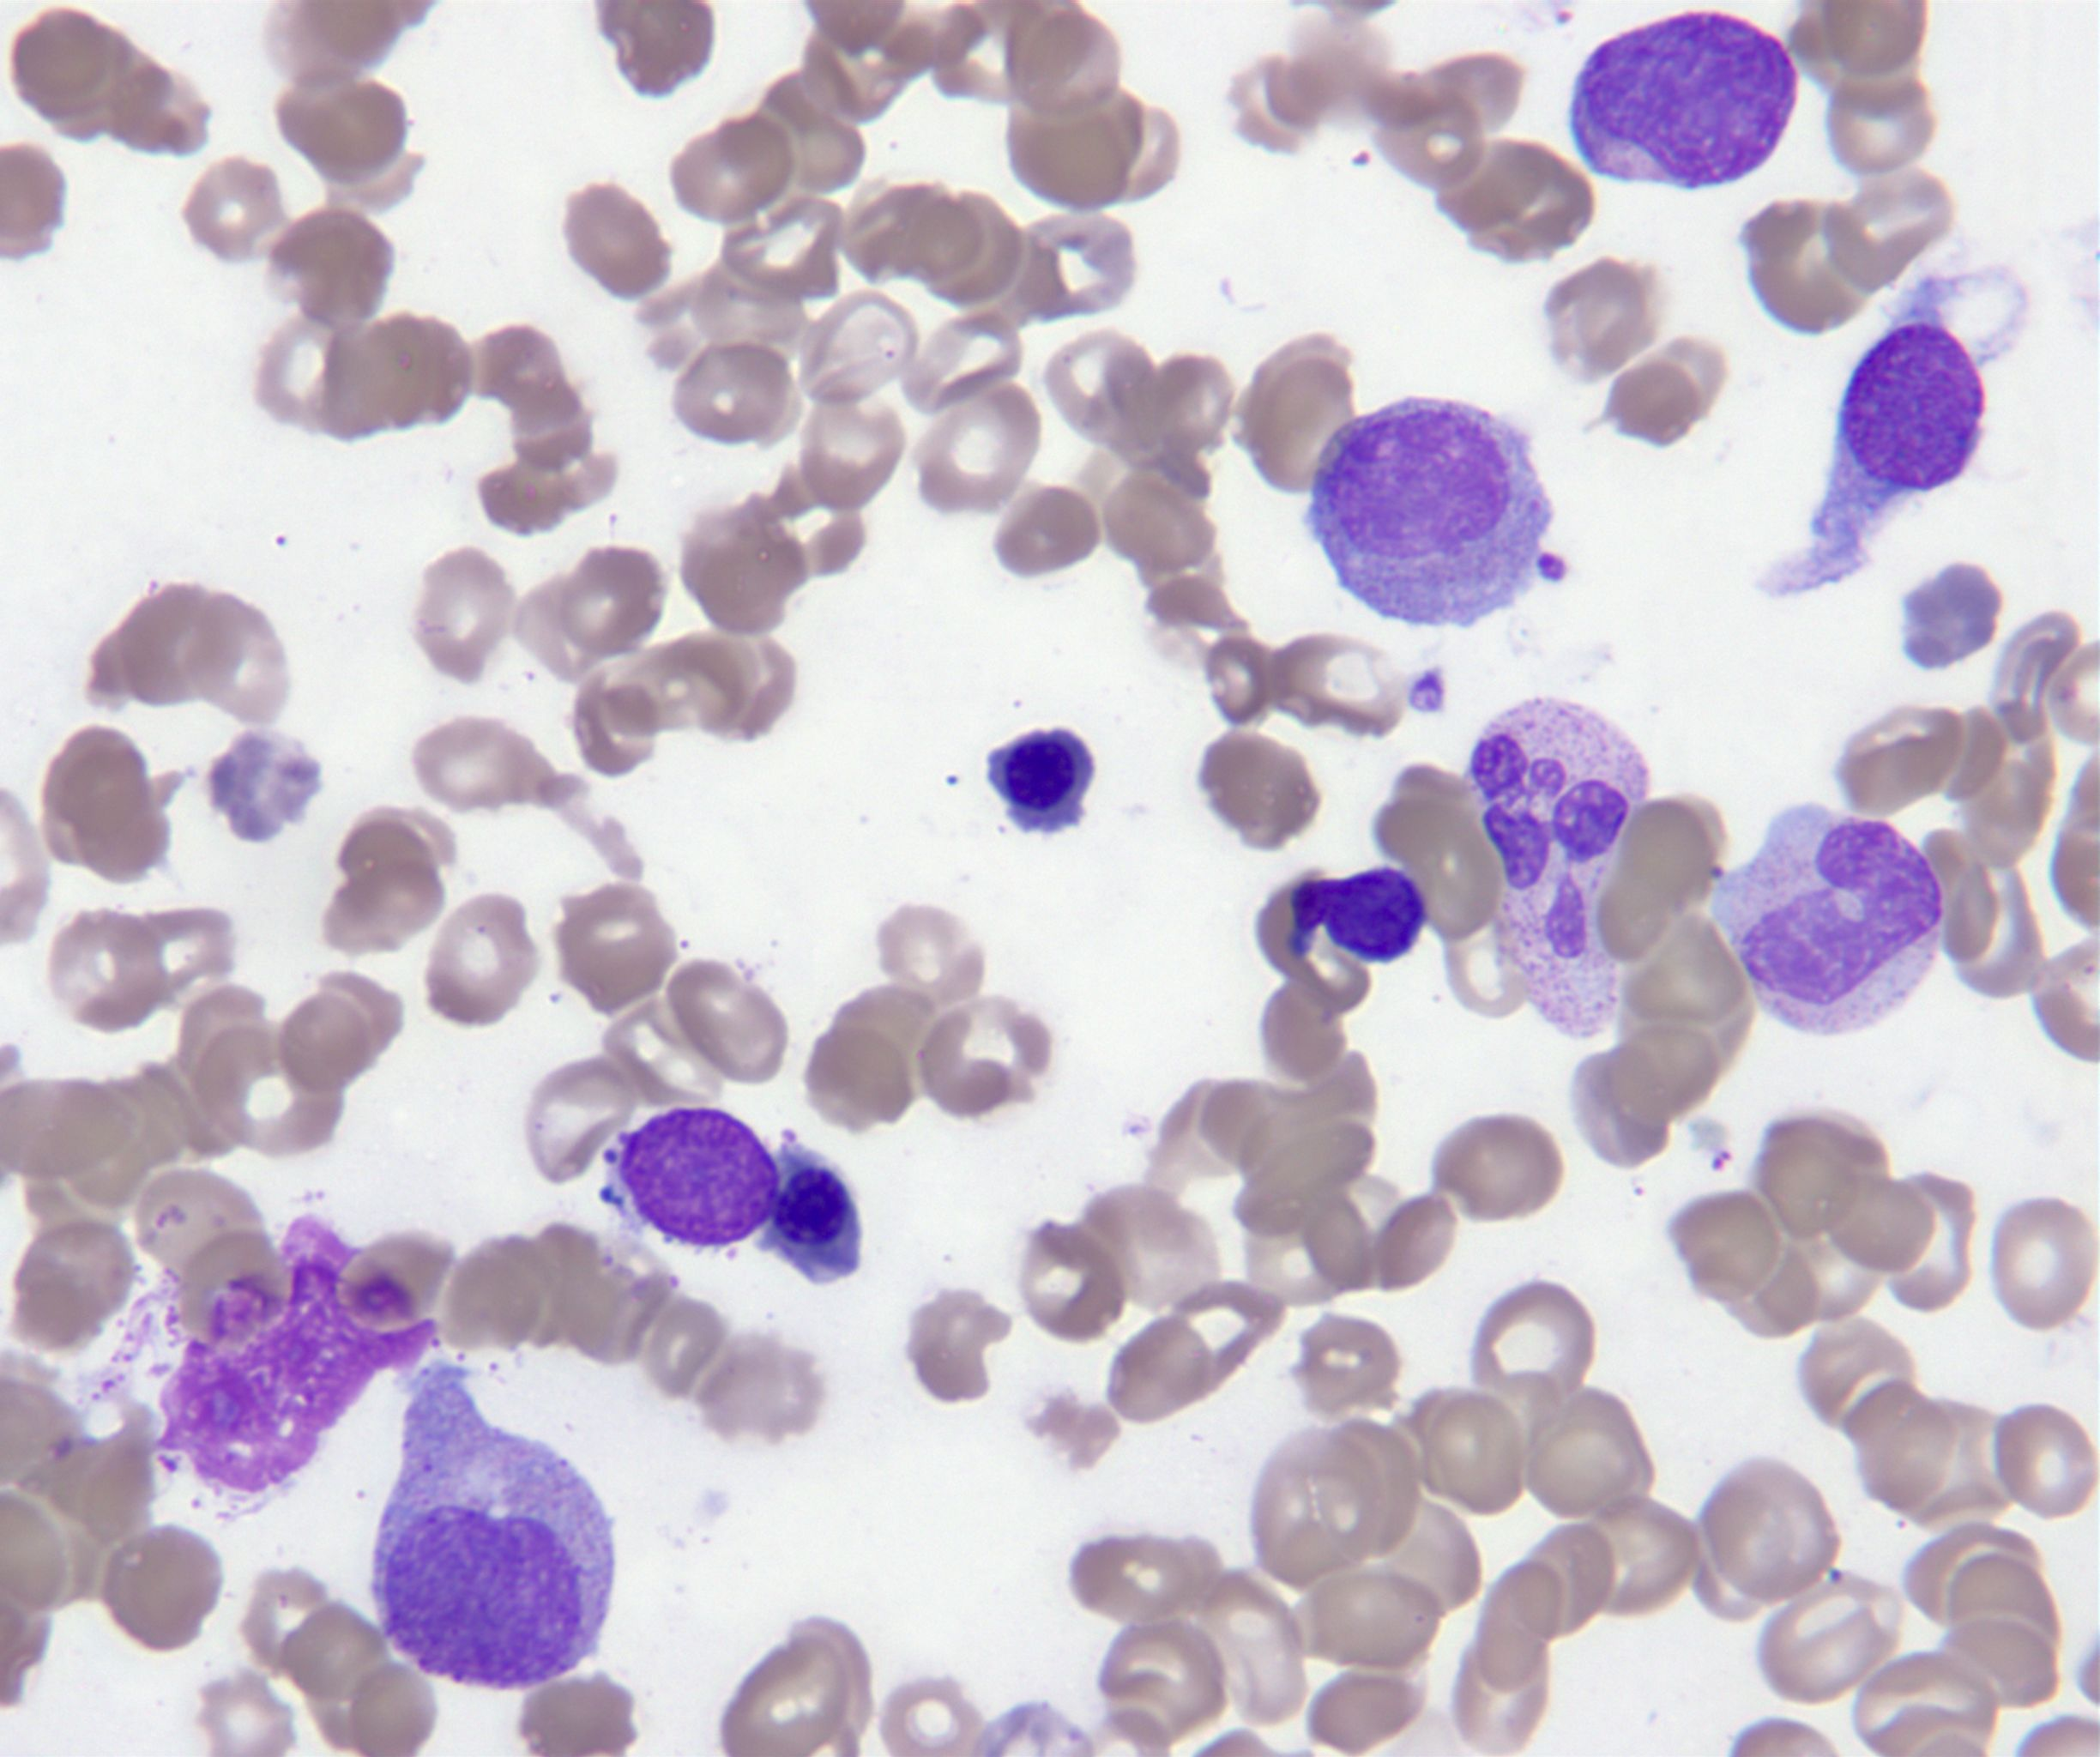2: (1575, 12, 1798, 188)
24: (755, 1131, 865, 1286), (989, 728, 1092, 834)
3: (375, 1357, 616, 1692), (1305, 396, 1552, 625)
32: (1289, 869, 1427, 965)
4: (1713, 804, 1945, 1038)
6: (1465, 698, 1648, 1038)
x: (150, 1220, 438, 1495), (1760, 267, 1983, 604), (605, 1113, 781, 1248)
